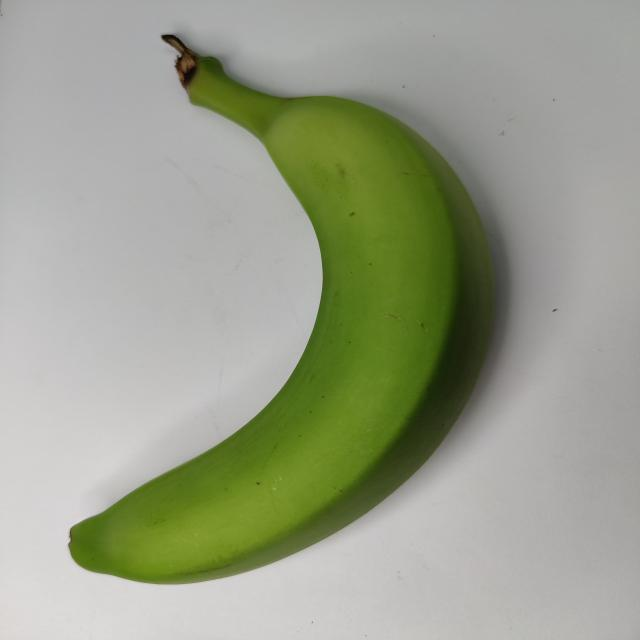raw: (51, 21, 513, 606)
